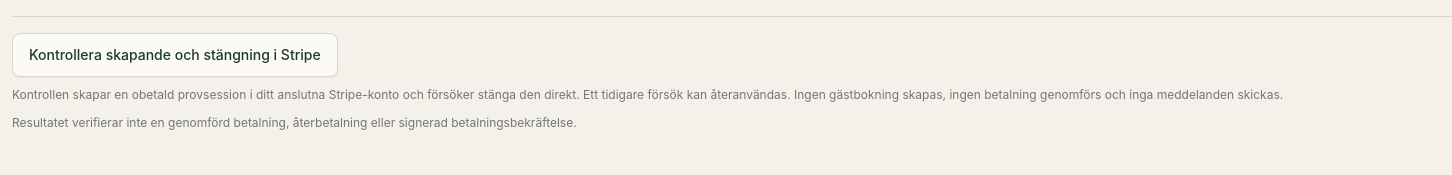
Scenario: explicit owner Stripe create-and-close check › shows a generic error for invalid/failed responses without leaking raw values
Click the button "Kontrollera skapande och stängning i Stripe" at {"x": 175, "y": 55}, box [12,33,338,77]
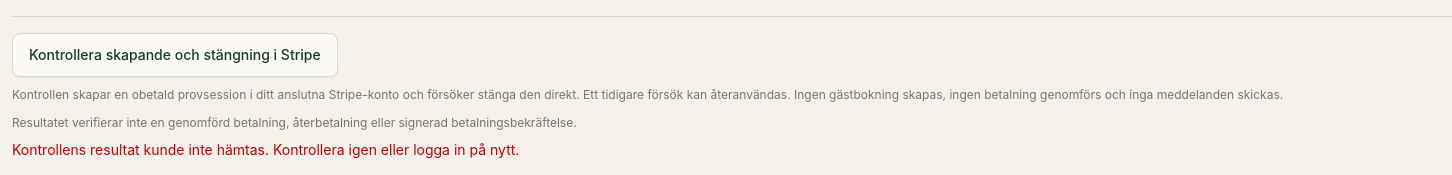
expect the message shows "Kontrollens resultat kunde inte hämtas": met, box [12,141,519,158]
